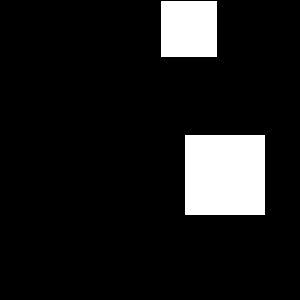circle: (185, 135, 265, 215), (161, 1, 217, 57)
